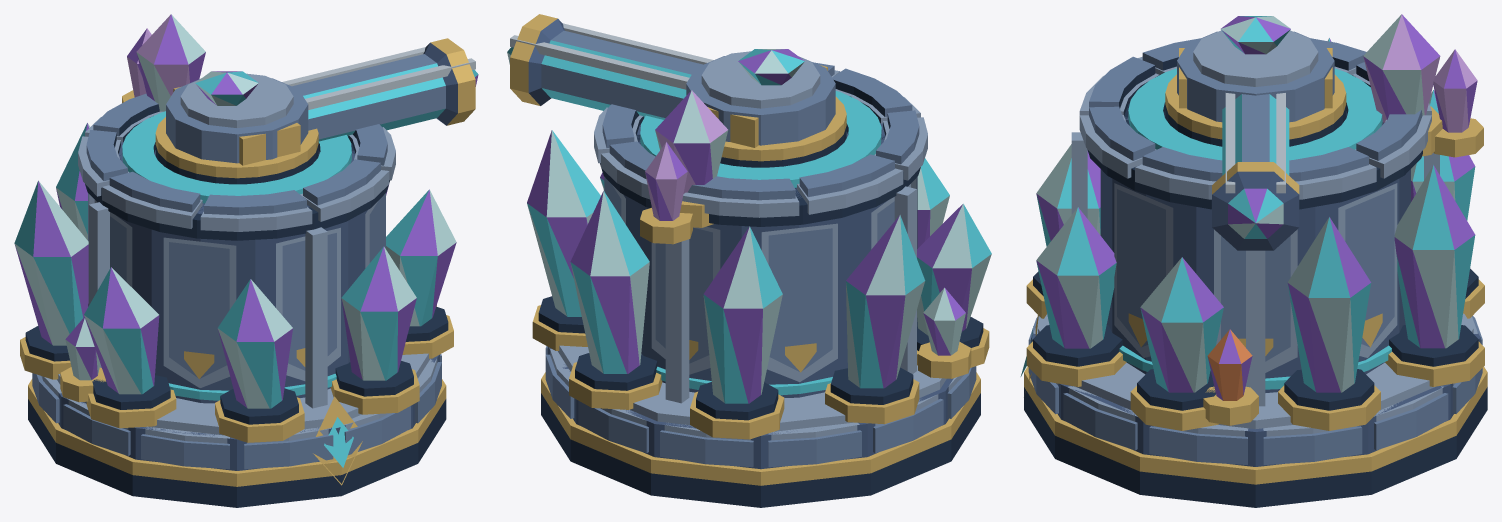
The model's file is crystal-tower-tier-4.glb.
The picture shows the model from 3 angles, left to right: view 1: azimuth 30°, elevation 25°; view 2: azimuth 150°, elevation 25°; view 3: azimuth 270°, elevation 25°; orthographic projection. The views are drawn at different scales.
Visible parts, largest first — view 1: Armored base and crystal sockets, Turret, Barrel recoil joint; view 2: Armored base and crystal sockets, Turret, Barrel recoil joint; view 3: Armored base and crystal sockets, Turret, Barrel recoil joint.
Part boxes in pixels (x1=…): Armored base and crystal sockets: x1=14, y1=14, x2=456, y2=507; Turret: x1=155, y1=71, x2=318, y2=184; Barrel recoil joint: x1=282, y1=38, x2=478, y2=141; Armored base and crystal sockets: x1=527, y1=62, x2=991, y2=507; Turret: x1=686, y1=49, x2=846, y2=167; Barrel recoil joint: x1=507, y1=14, x2=713, y2=119; Armored base and crystal sockets: x1=1020, y1=14, x2=1487, y2=507; Turret: x1=1165, y1=16, x2=1346, y2=146; Barrel recoil joint: x1=1212, y1=93, x2=1299, y2=250.
Bounding box in the file's own units: 1.7 × 1.36 × 1.45.
